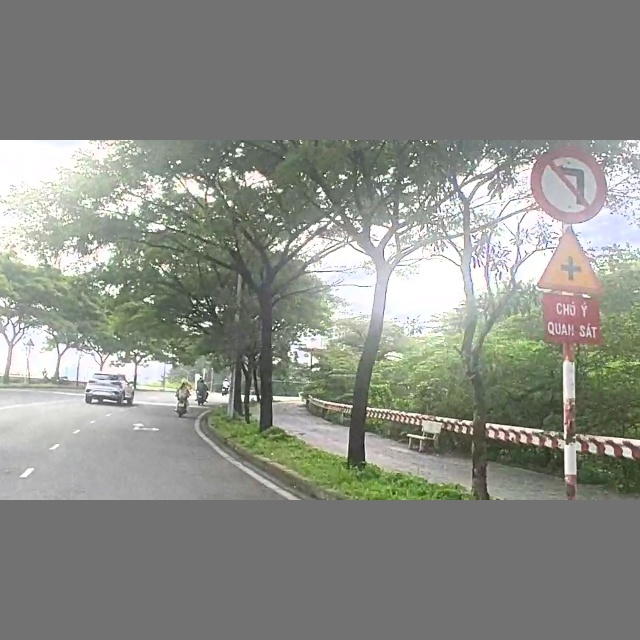P.123a: (530, 143, 620, 223)
W.205a: (536, 225, 612, 292)
